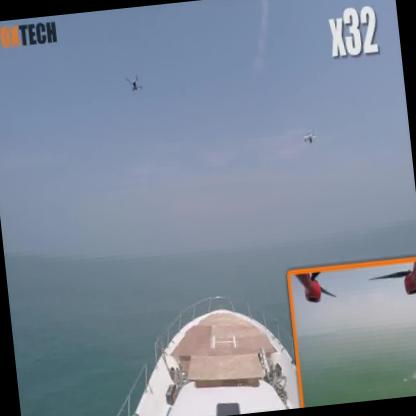drone: (296, 118, 323, 149), (120, 68, 146, 97)
